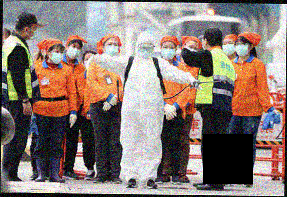with_mask: (160, 44, 177, 62), (234, 40, 250, 58), (103, 41, 120, 57), (49, 48, 65, 65), (137, 43, 153, 59), (221, 40, 236, 57), (67, 43, 82, 60), (28, 25, 38, 43), (201, 38, 207, 51)
